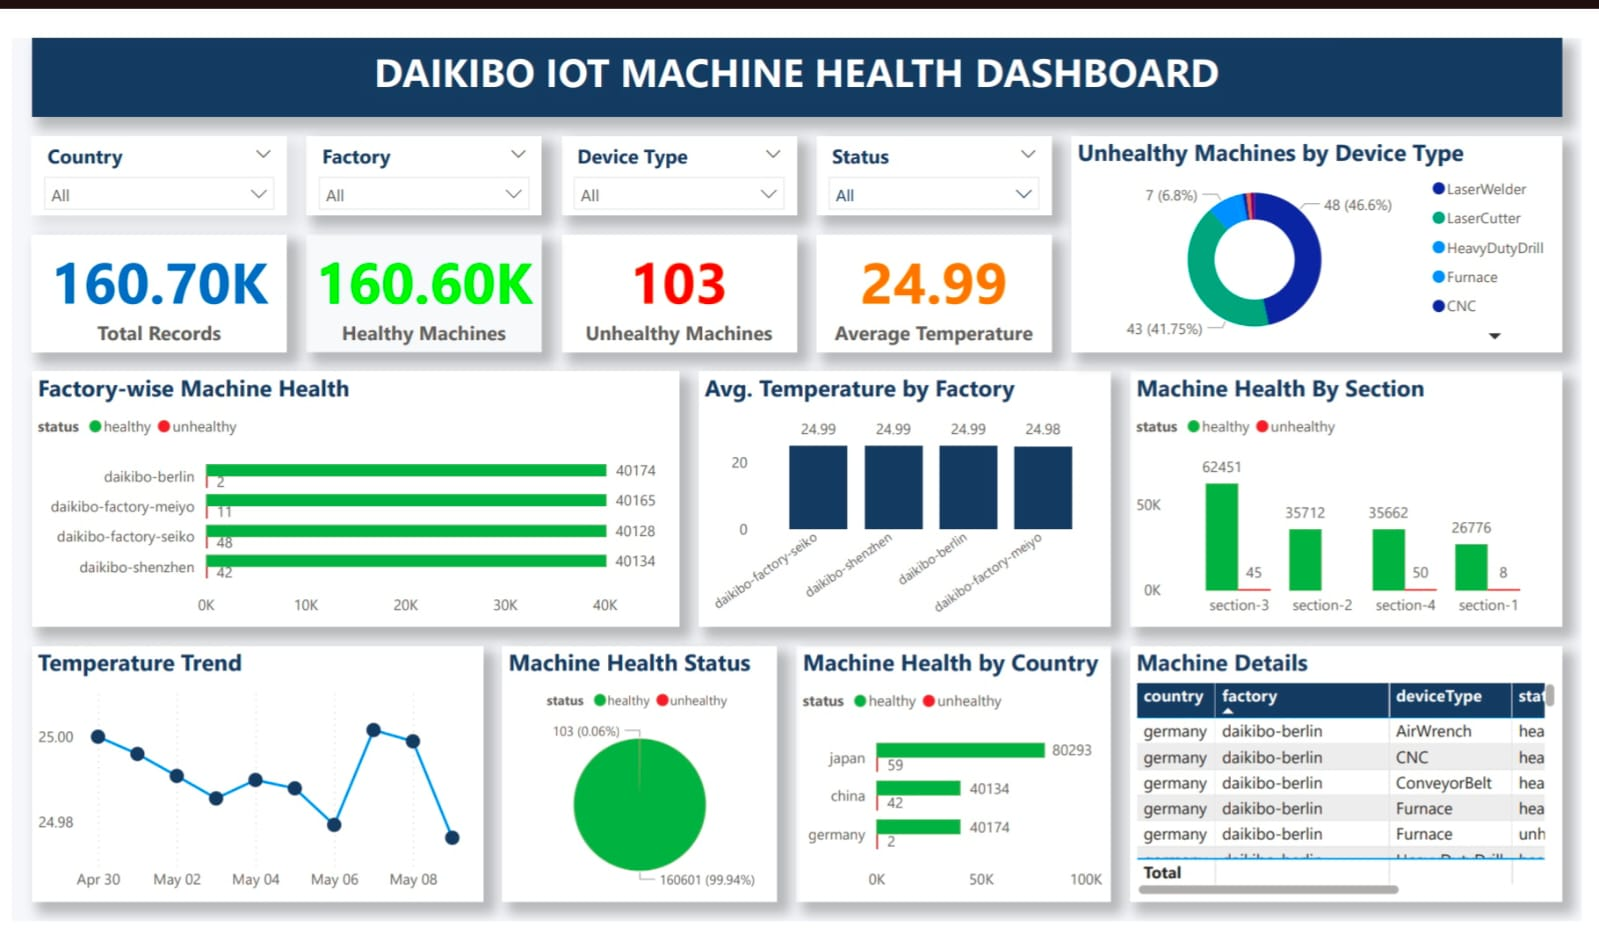

Layout of this report page (visuals, bound fields, positions):
{"tool":"powerbi","page":{"name":"Iot Machine Health Dashboard","canvas":[1280,720],"ordinal":0},"visuals":[{"type":"textbox","box":[16,0,1248,64],"z":0},{"type":"slicer","fields":{"Values":["daikibo-telemetry-data.status"]},"box":[656,80,192,64],"z":1000},{"type":"slicer","fields":{"Values":["daikibo-telemetry-data.deviceType"]},"box":[448,80,192,64],"z":2000},{"type":"slicer","fields":{"Values":["daikibo-telemetry-data.factory"]},"box":[240,80,192,64],"z":3000},{"type":"slicer","fields":{"Values":["daikibo-telemetry-data.country"]},"box":[16,80,208,64],"z":4000},{"type":"card","fields":{"Values":["CountNonNull(daikibo-telemetry-data.deviceID)"]},"box":[16,160,208,96],"z":5000},{"type":"card","fields":{"Values":["daikibo-telemetry-data.Unhealthy Machines"]},"box":[448,160,192,96],"z":6000},{"type":"card","fields":{"Values":["Avg(daikibo-telemetry-data.temperature)"]},"box":[656,160,192,96],"z":7000},{"type":"card","fields":{"Values":["daikibo-telemetry-data.Healthy Machines"]},"box":[240,160,192,96],"z":8000},{"type":"clusteredBarChart","title":"Factory-wise Machine Health","fields":{"Category":["daikibo-telemetry-data.factory"],"Y":["CountNonNull(daikibo-telemetry-data.deviceID)"],"Series":["daikibo-telemetry-data.status"]},"box":[16,272,528,208],"z":9000},{"type":"clusteredBarChart","title":"Machine Health by Country","fields":{"Category":["daikibo-telemetry-data.country"],"Y":["CountNonNull(daikibo-telemetry-data.deviceID)"],"Series":["daikibo-telemetry-data.status"]},"box":[640,496,256,208],"z":10000},{"type":"clusteredColumnChart","title":"Machine Health By Section","fields":{"Category":["daikibo-telemetry-data.section"],"Y":["CountNonNull(daikibo-telemetry-data.deviceID)"],"Series":["daikibo-telemetry-data.status"]},"box":[912,272,352,208],"z":11000},{"type":"columnChart","title":"Avg. Temperature by Factory ","fields":{"Category":["daikibo-telemetry-data.factory"],"Y":["Avg(daikibo-telemetry-data.temperature)"]},"box":[560,272,336,208],"z":12000},{"type":"lineChart","title":"Temperature Trend","fields":{"Y":["Avg(daikibo-telemetry-data.temperature)"],"Category":["daikibo-telemetry-data.DateTime.Variation.Date Hierarchy.Year","daikibo-telemetry-data.DateTime.Variation.Date Hierarchy.Quarter","daikibo-telemetry-data.DateTime.Variation.Date Hierarchy.Month","daikibo-telemetry-data.DateTime.Variation.Date Hierarchy.Day"]},"box":[16,496,368,208],"z":13000},{"type":"tableEx","title":"Machine Details","fields":{"Values":["daikibo-telemetry-data.country","daikibo-telemetry-data.factory","daikibo-telemetry-data.deviceType","daikibo-telemetry-data.status","Avg(daikibo-telemetry-data.temperature)"]},"box":[912,496,352,208],"z":14000},{"type":"donutChart","title":"Unhealthy Machines by Device Type","fields":{"Category":["daikibo-telemetry-data.deviceType"],"Y":["daikibo-telemetry-data.Unhealthy Machines"]},"box":[864,80,400,176],"z":15000},{"type":"pieChart","title":"Machine Health Status","fields":{"Category":["daikibo-telemetry-data.status"],"Y":["CountNonNull(daikibo-telemetry-data.deviceID)"]},"box":[400,496,224,208],"z":16000}]}

Visuals, with their boxes on the page's 1280x720 design canvas (x1, y1, x2, y2). These are canvas units, not pixel positions in the 1599x949 screenshot, which may show the page scaled, cropped or inside an application window:
textbox: l=16, t=0, r=1264, b=64
slicer - daikibo-telemetry-data.status: l=656, t=80, r=848, b=144
slicer - daikibo-telemetry-data.deviceType: l=448, t=80, r=640, b=144
slicer - daikibo-telemetry-data.factory: l=240, t=80, r=432, b=144
slicer - daikibo-telemetry-data.country: l=16, t=80, r=224, b=144
card - CountNonNull(daikibo-telemetry-data.deviceID): l=16, t=160, r=224, b=256
card - daikibo-telemetry-data.Unhealthy Machines: l=448, t=160, r=640, b=256
card - Avg(daikibo-telemetry-data.temperature): l=656, t=160, r=848, b=256
card - daikibo-telemetry-data.Healthy Machines: l=240, t=160, r=432, b=256
"Factory-wise Machine Health" clusteredBarChart: l=16, t=272, r=544, b=480
"Machine Health by Country" clusteredBarChart: l=640, t=496, r=896, b=704
"Machine Health By Section" clusteredColumnChart: l=912, t=272, r=1264, b=480
"Avg. Temperature by Factory " columnChart: l=560, t=272, r=896, b=480
"Temperature Trend" lineChart: l=16, t=496, r=384, b=704
"Machine Details" tableEx: l=912, t=496, r=1264, b=704
"Unhealthy Machines by Device Type" donutChart: l=864, t=80, r=1264, b=256
"Machine Health Status" pieChart: l=400, t=496, r=624, b=704
